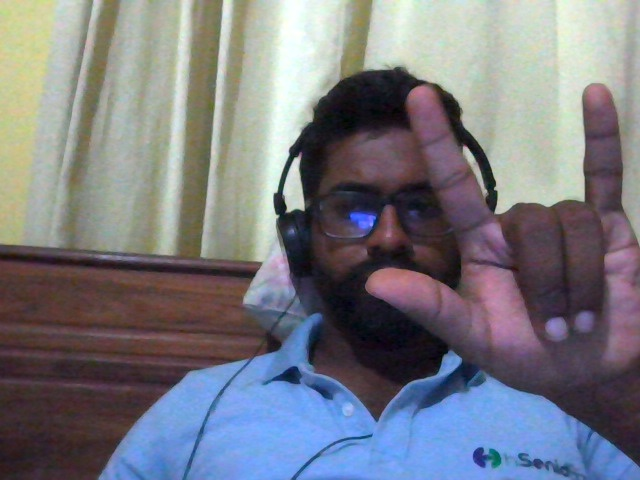I Love You: (338, 25, 640, 447)
